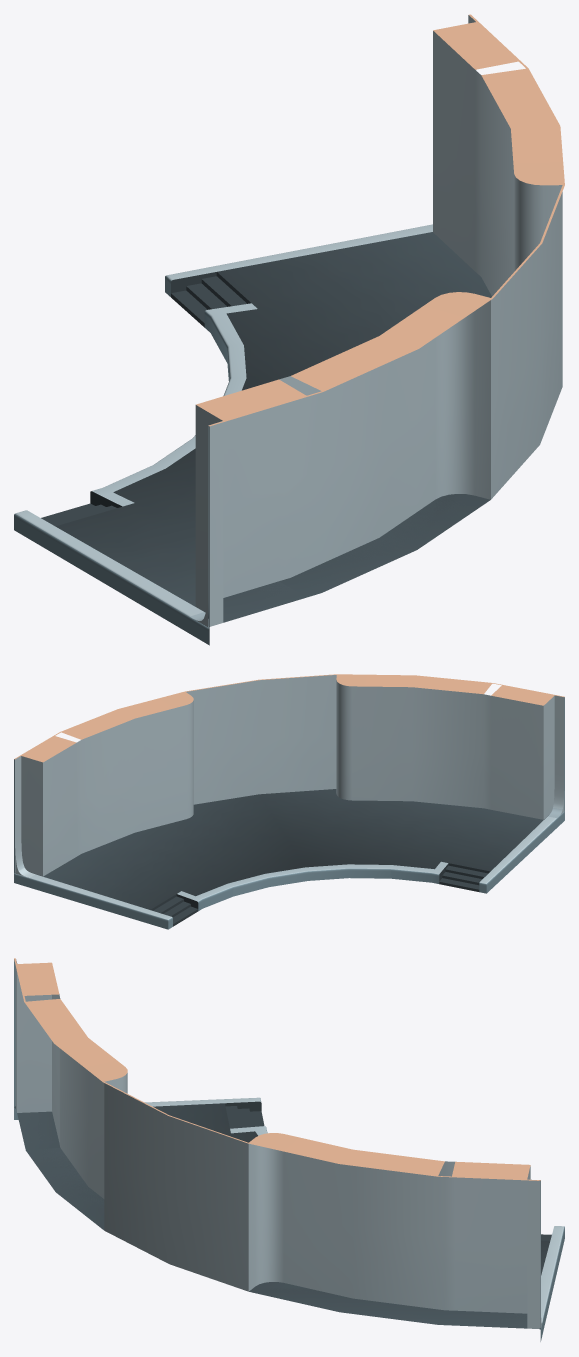
The model's file is Podium Frame.glb.
3 renders of one model, top to bottom at view 1: azimuth 30°, elevation 25°; view 2: azimuth 150°, elevation 25°; view 3: azimuth 270°, elevation 25°, orthographic. The views are drawn at different scales.
Visible parts, largest first — view 1: Podium Frame; view 2: Podium Frame; view 3: Podium Frame.
Boxes of the visible parts, x1=… form: Podium Frame: x1=14, y1=14, x2=564, y2=645; Podium Frame: x1=14, y1=674, x2=564, y2=929; Podium Frame: x1=14, y1=958, x2=564, y2=1341.
Size of what is drawn, in the model's own units: 23.51 by 7.61 by 23.51.
Materials: 1 (1 with a texture image).
